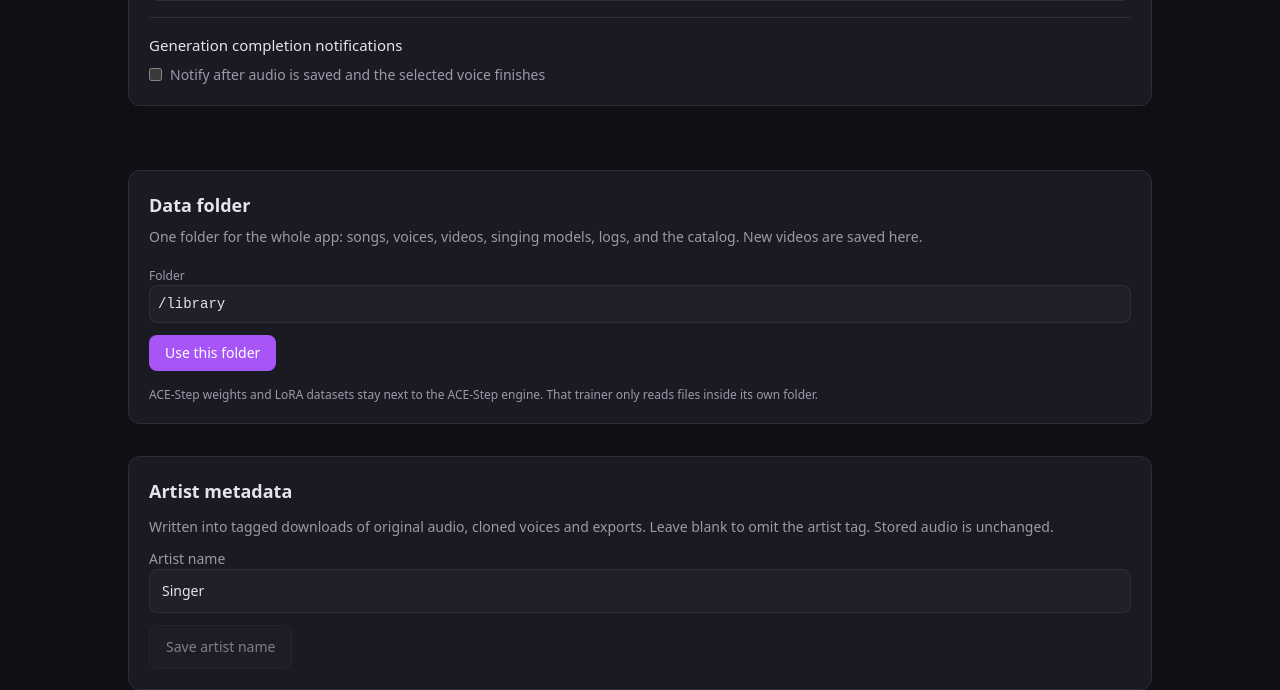
it: loads and saves artist metadata alongside the existing library and audio settings
The image size is (1280, 690).
(page scrolled)
Replace the text in the field named "Artist name" with "New Singer" at (640, 591), box [149, 569, 1131, 613]
(page scrolled)
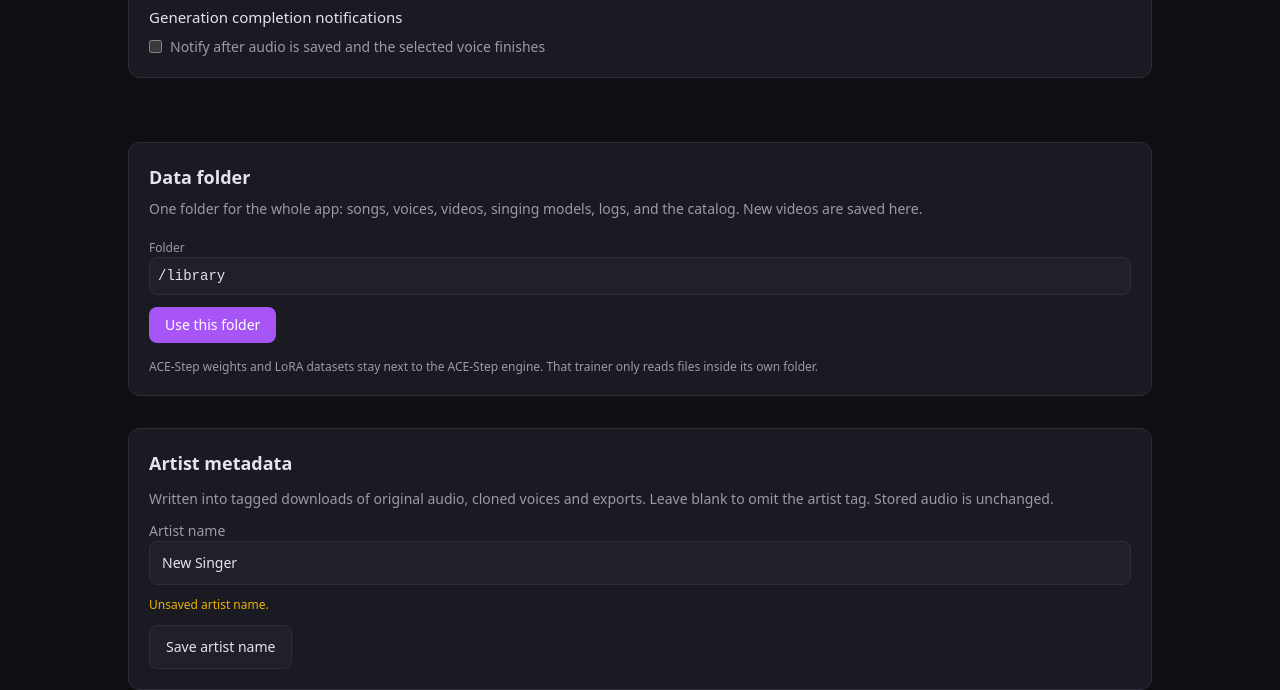
Click the button "Save artist name" at (221, 647), box [149, 625, 292, 669]
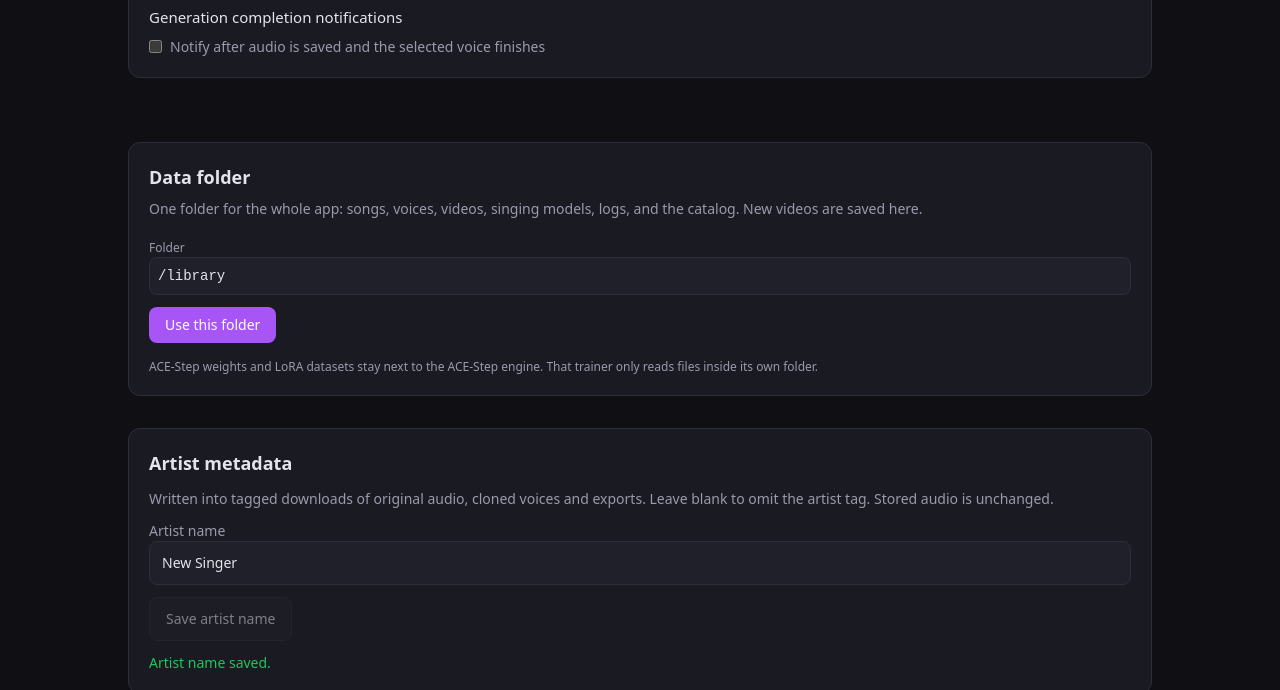
Expected: the text "Artist name saved." is shown, [149, 653, 271, 672]
